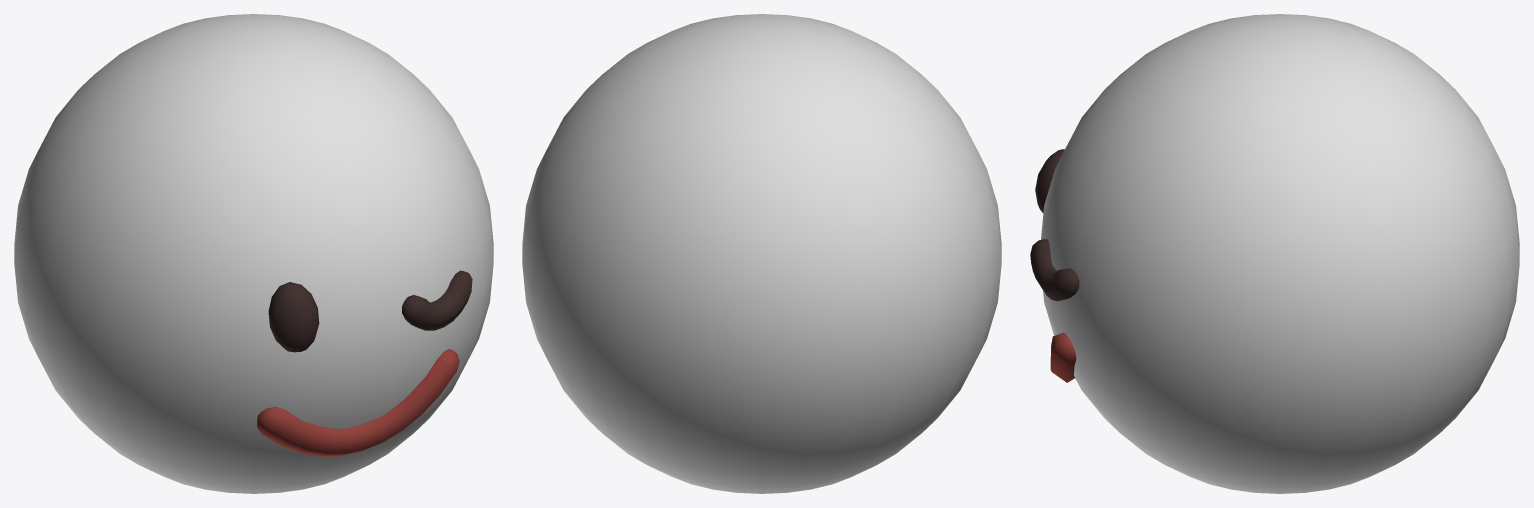
The model's file is face_wink.glb.
The picture shows the model from 3 angles, left to right: view 1: azimuth 30°, elevation 25°; view 2: azimuth 150°, elevation 25°; view 3: azimuth 270°, elevation 25°; orthographic projection.
Visible parts, largest first — view 1: face_wink; view 2: face_wink; view 3: face_wink.
Part boxes in pixels (x1,y1,x2,y2): face_wink: [14, 14, 493, 493]; face_wink: [522, 14, 1001, 493]; face_wink: [1030, 14, 1519, 493].
Size of the model in its own units: 1 by 1 by 1.02.
